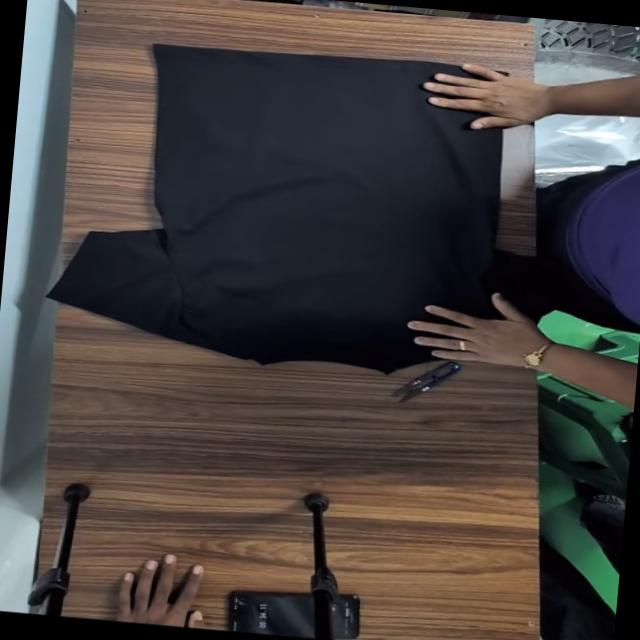new-garment: (52, 44, 500, 372)
